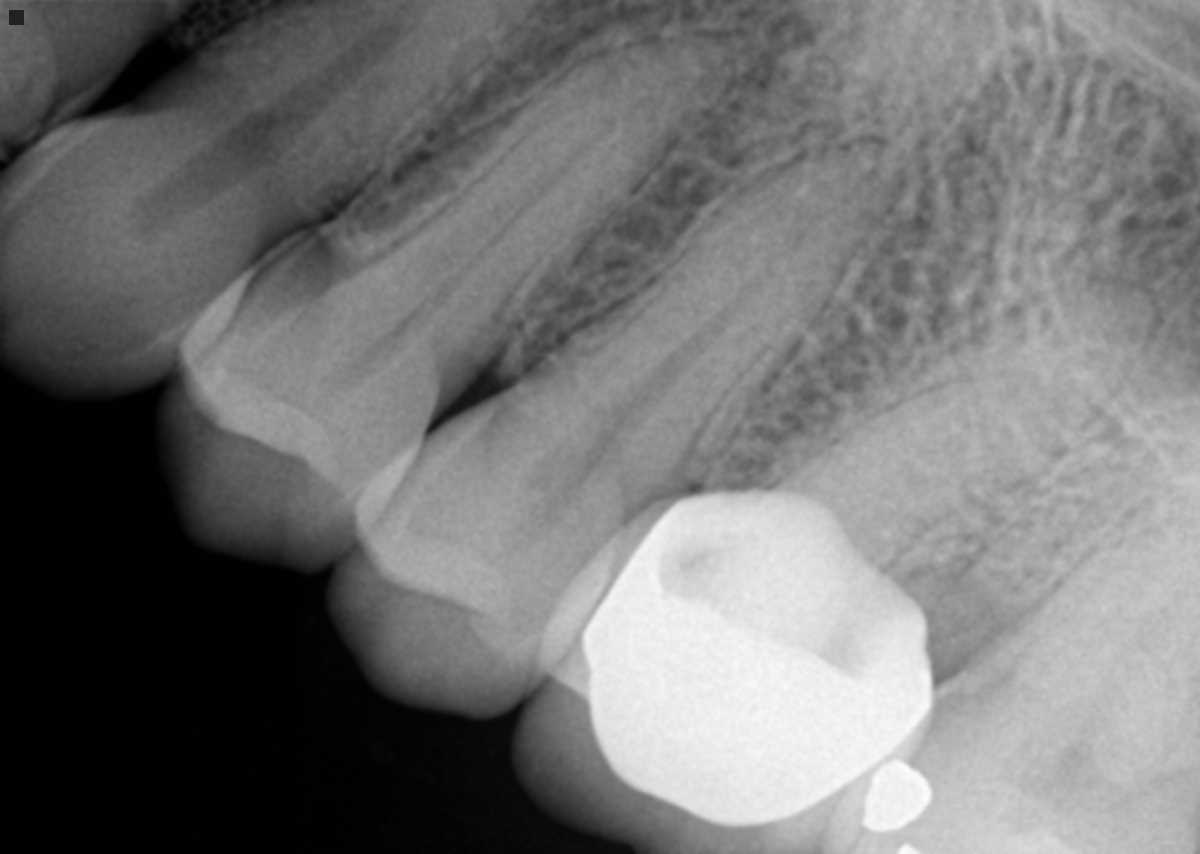Distal Root: (914, 484, 1103, 690)
Main Canal: (606, 164, 880, 431), (423, 113, 628, 310), (251, 0, 447, 142)
Main Root: (550, 136, 898, 484), (206, 0, 571, 202)
Mesial Root: (772, 369, 1071, 574), (976, 522, 1200, 699)
Palatal Root: (775, 280, 1152, 618)
decay: (905, 559, 1037, 681)
